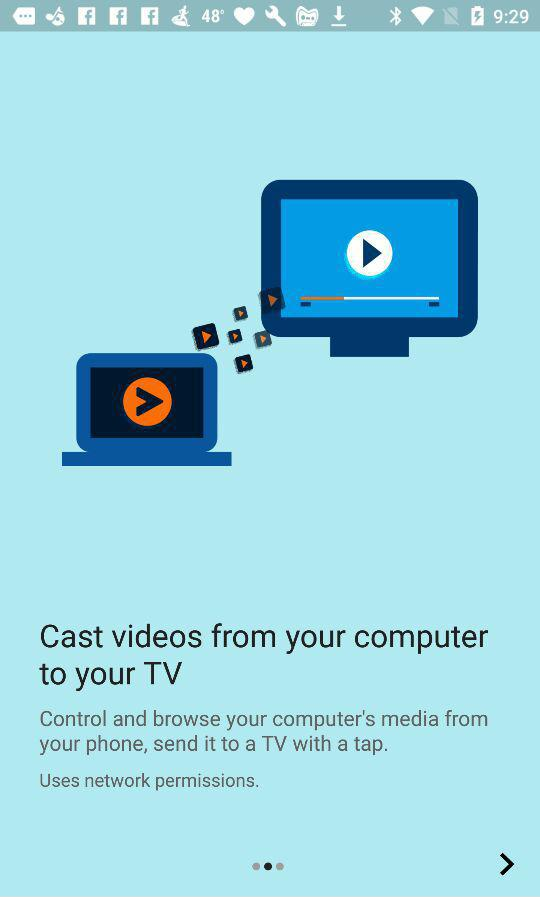Icon: (498, 852, 516, 877)
Image: (61, 179, 480, 467)
PageIndicator: (250, 861, 286, 872)
Text: (38, 623, 489, 691), (38, 710, 488, 756), (39, 771, 259, 791)
UpperTaskBar: (1, 1, 540, 33)
